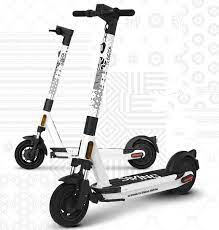kick_body: (119, 173, 169, 194)
kick_handler: (73, 4, 135, 34), (49, 25, 73, 44)
kick_neck: (85, 35, 112, 156), (41, 46, 68, 135)
kick_wheel: (50, 181, 88, 227), (169, 151, 196, 192), (14, 137, 46, 169), (127, 136, 157, 168)
